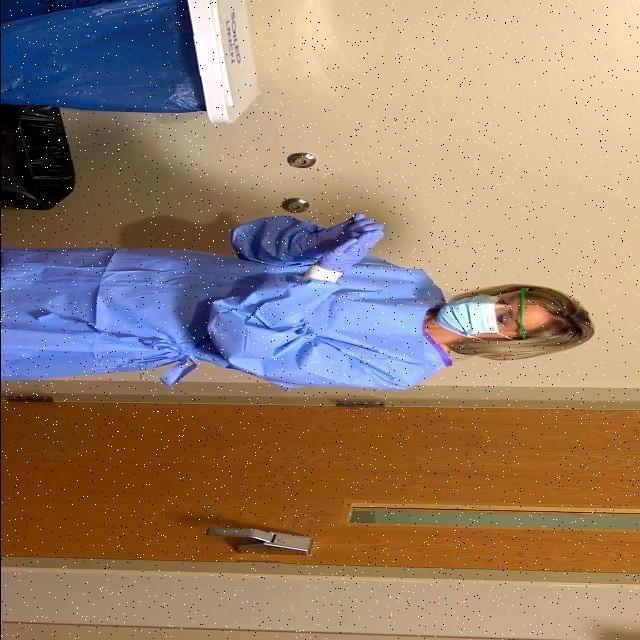apron: (334, 238, 406, 284), (323, 200, 385, 242)
mask: (432, 290, 507, 338)
no_gloves: (534, 278, 600, 364)
